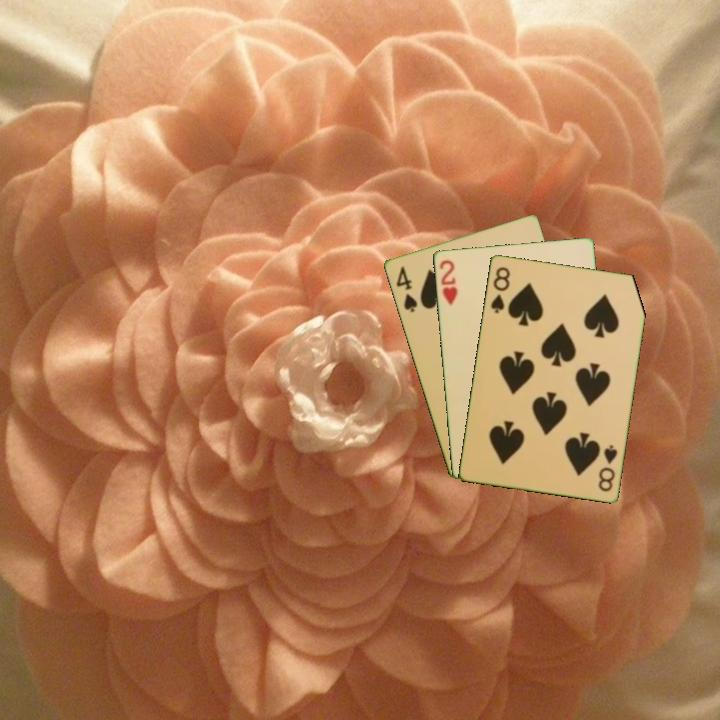2h: (436, 256, 460, 308)
4s: (392, 262, 420, 315)
8s: (594, 441, 620, 494), (487, 263, 513, 315)
